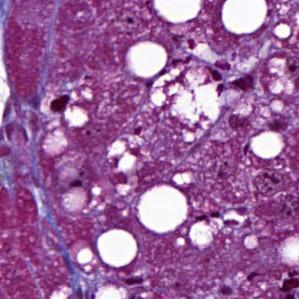ballooning: (147, 57, 226, 134)
